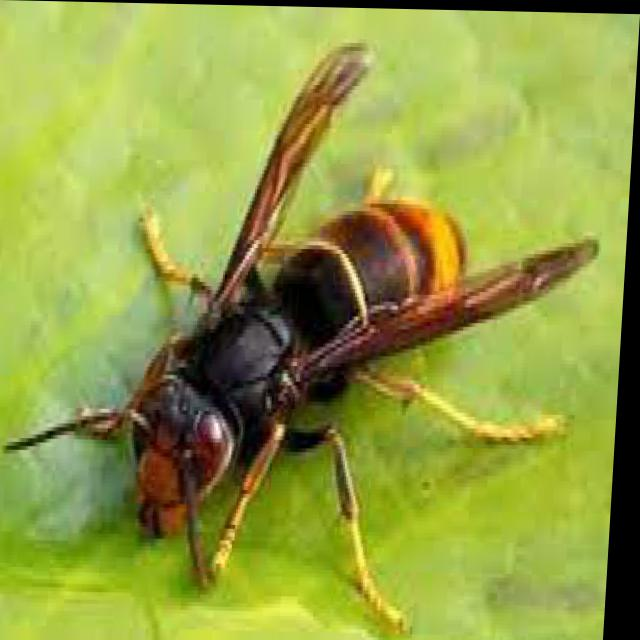Vespa Velutina: (0, 26, 617, 639)
